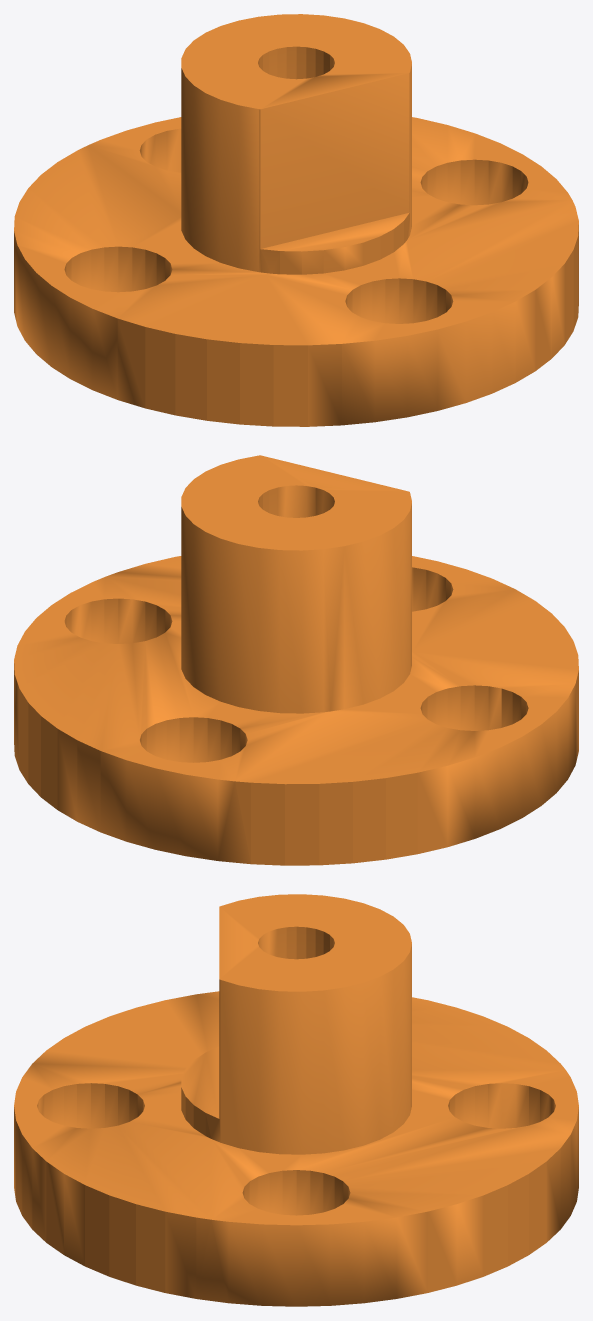
File: 02_acople_motor_engranaje_v31.glb
3 renders of one model, top to bottom at view 1: azimuth 30°, elevation 25°; view 2: azimuth 150°, elevation 25°; view 3: azimuth 270°, elevation 25°, orthographic.
Parts seen in each view (by area): view 1: 02_Acople_motor_engranaje_V31; view 2: 02_Acople_motor_engranaje_V31; view 3: 02_Acople_motor_engranaje_V31.
Part boxes in pixels (x1,y1,x2,y2): 02_Acople_motor_engranaje_V31: (14, 14, 578, 426); 02_Acople_motor_engranaje_V31: (14, 455, 578, 865); 02_Acople_motor_engranaje_V31: (14, 894, 578, 1306).
Bounding box in the file's own units: 0.022 × 0.0105 × 0.022.
